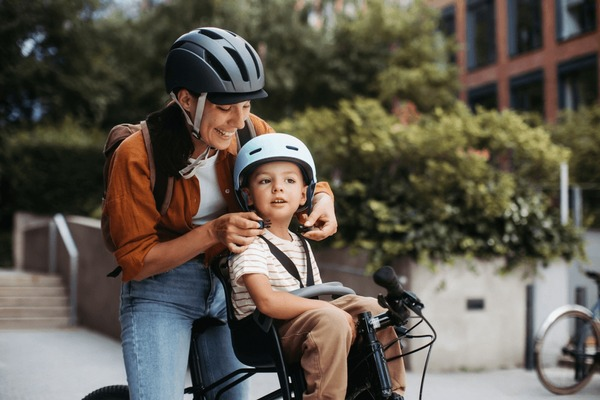helmets: (161, 25, 270, 105), (232, 133, 318, 201)
